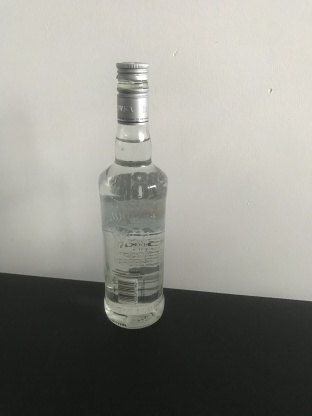nakretka: (115, 60, 150, 124)
